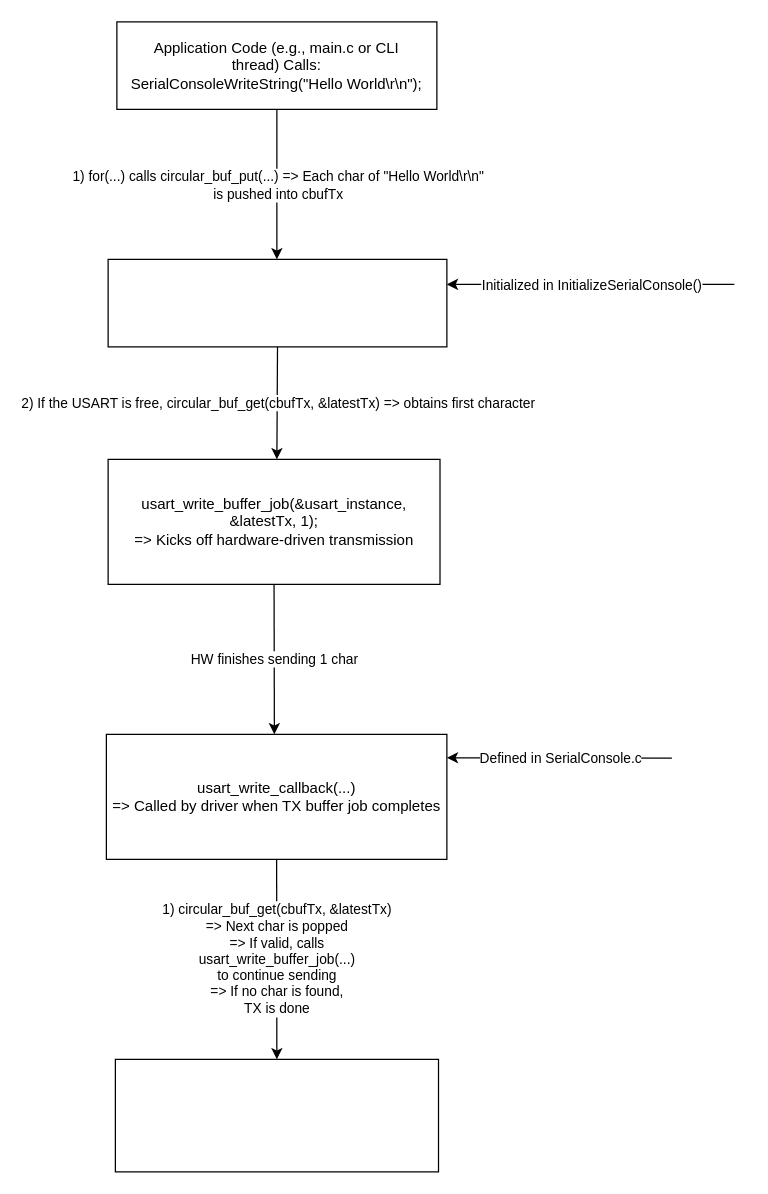
Image size: 768x1194. Some labels were removed from this diagram. The shapes that lost their labels are listed below. From the top down, each one's centre as x and y in pixels, then its label:
At point 277,302: "cbufTx (TX ring buffer) (Holds outgoing chars until UART can send them)".
At point 276,1115: "SERCOM (UART) sends characters => PC terminal (e.g. TeraTerm) displays them".
